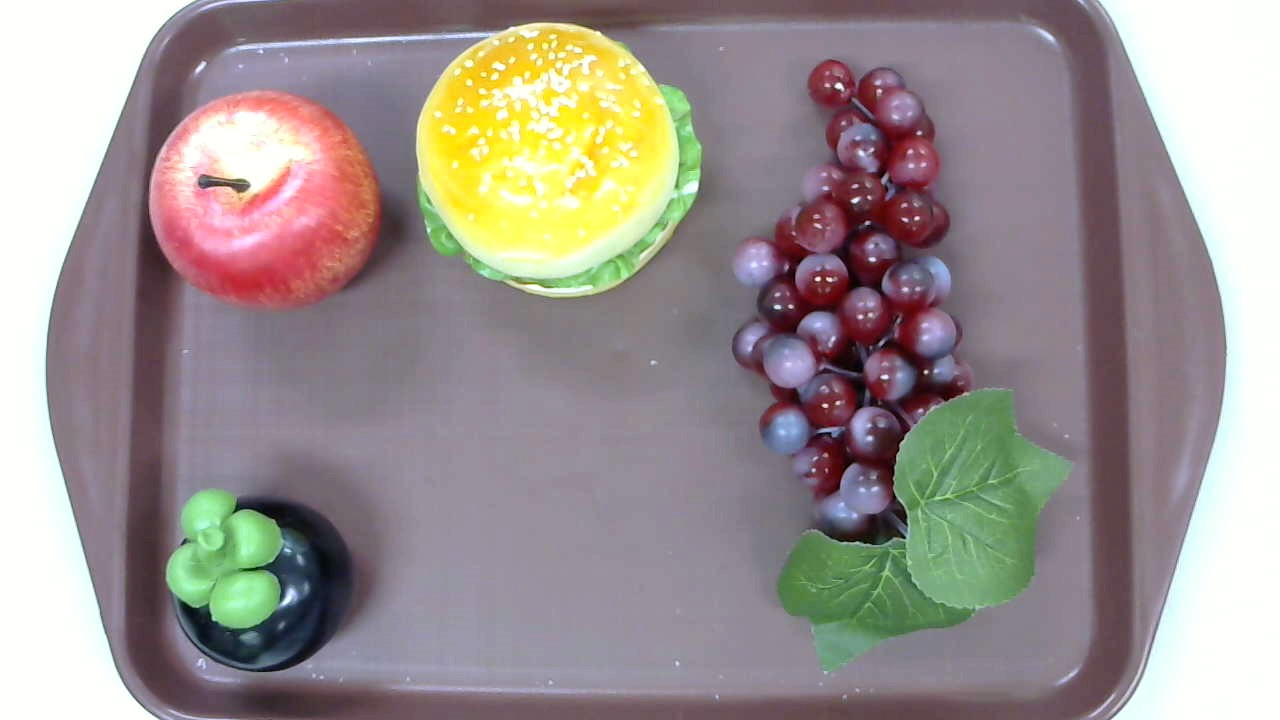grape: (731, 59, 1075, 672)
hamburger: (415, 22, 703, 299)
mangosteen: (163, 486, 355, 673)
red apple: (147, 90, 381, 311)
